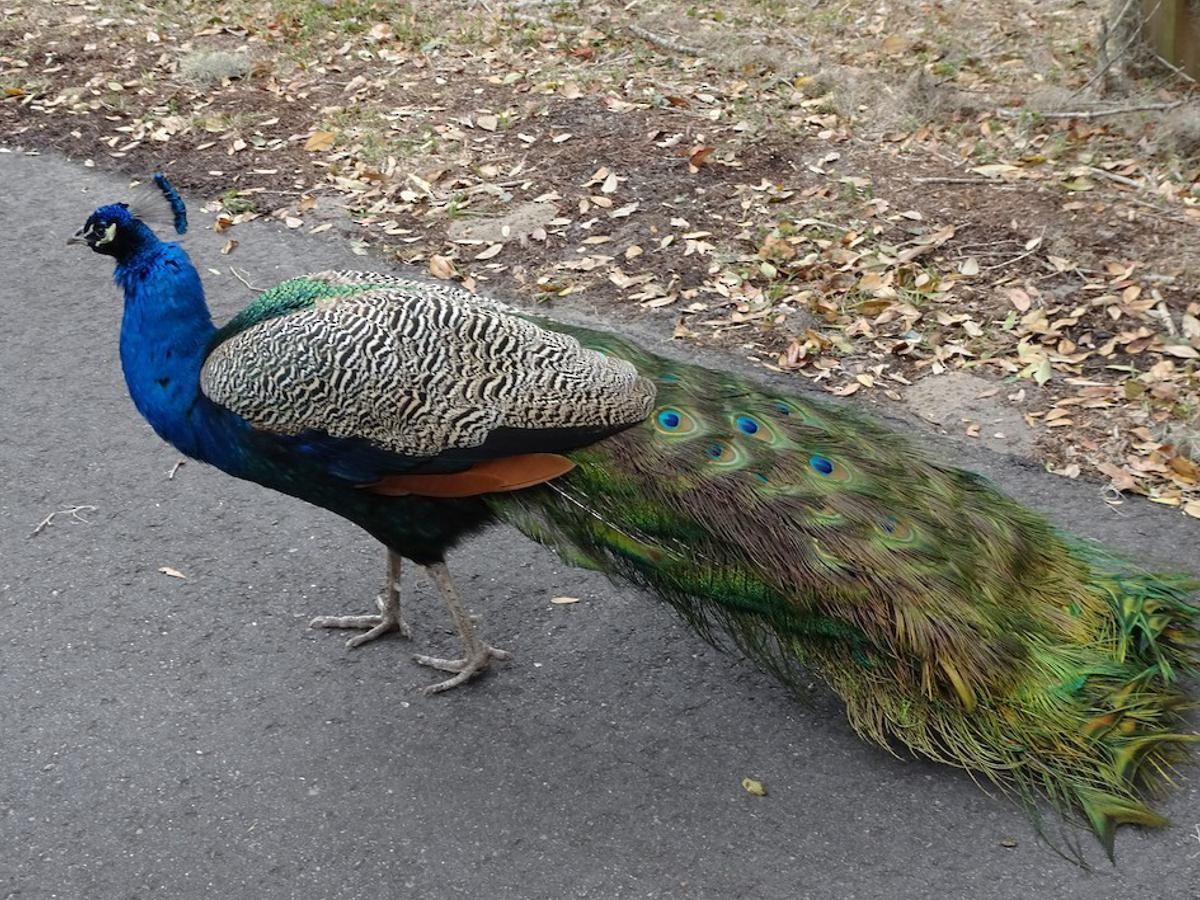peacock: (47, 183, 1160, 723)
